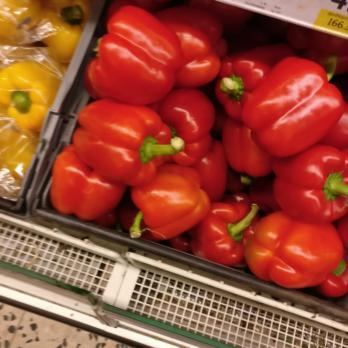Capsicum: (142, 30, 267, 217), (236, 53, 347, 158), (79, 4, 192, 104), (71, 102, 200, 187), (247, 204, 343, 295), (269, 149, 348, 221), (135, 171, 212, 244), (50, 149, 128, 220), (0, 0, 30, 182), (27, 2, 85, 61)
